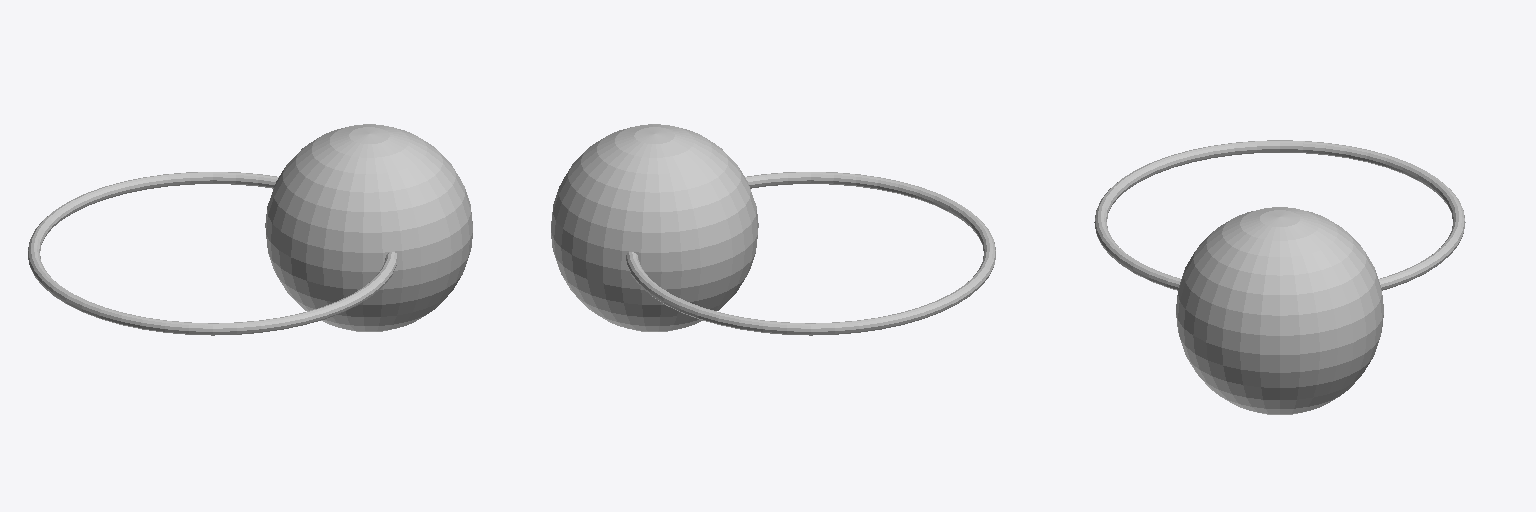
The model's file is teapot.obj.
3 renders of one model, left to right at view 1: azimuth 30°, elevation 25°; view 2: azimuth 150°, elevation 25°; view 3: azimuth 270°, elevation 25°, orthographic.
Parts seen in each view (by area): view 1: Sphere_Sphere.002, Torus.002; view 2: Sphere_Sphere.002, Torus.002; view 3: Sphere_Sphere.002, Torus.002.
Boxes of the visible parts, x1,y1,x2,y2 form: Sphere_Sphere.002: [265, 124, 472, 331]; Torus.002: [28, 172, 397, 335]; Sphere_Sphere.002: [551, 124, 758, 331]; Torus.002: [626, 172, 995, 335]; Sphere_Sphere.002: [1176, 207, 1383, 414]; Torus.002: [1094, 140, 1465, 290].
Bounding box in the file's own units: 4.51 × 2 × 3.56.